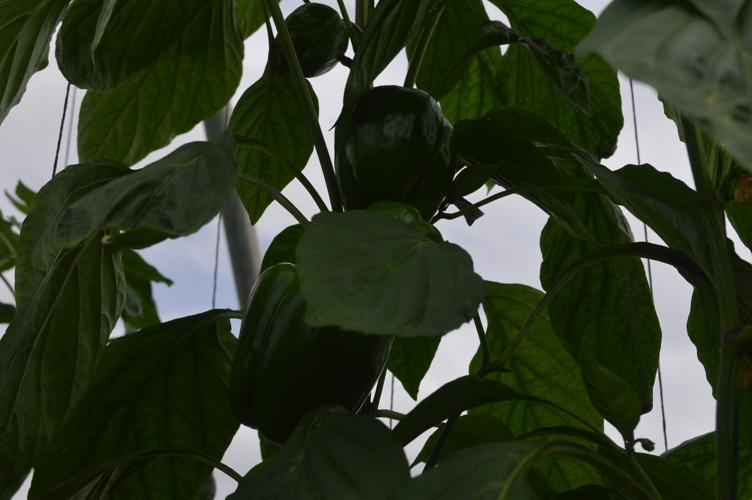BellPepper: (232, 264, 397, 433), (332, 86, 452, 218), (287, 3, 349, 79)
